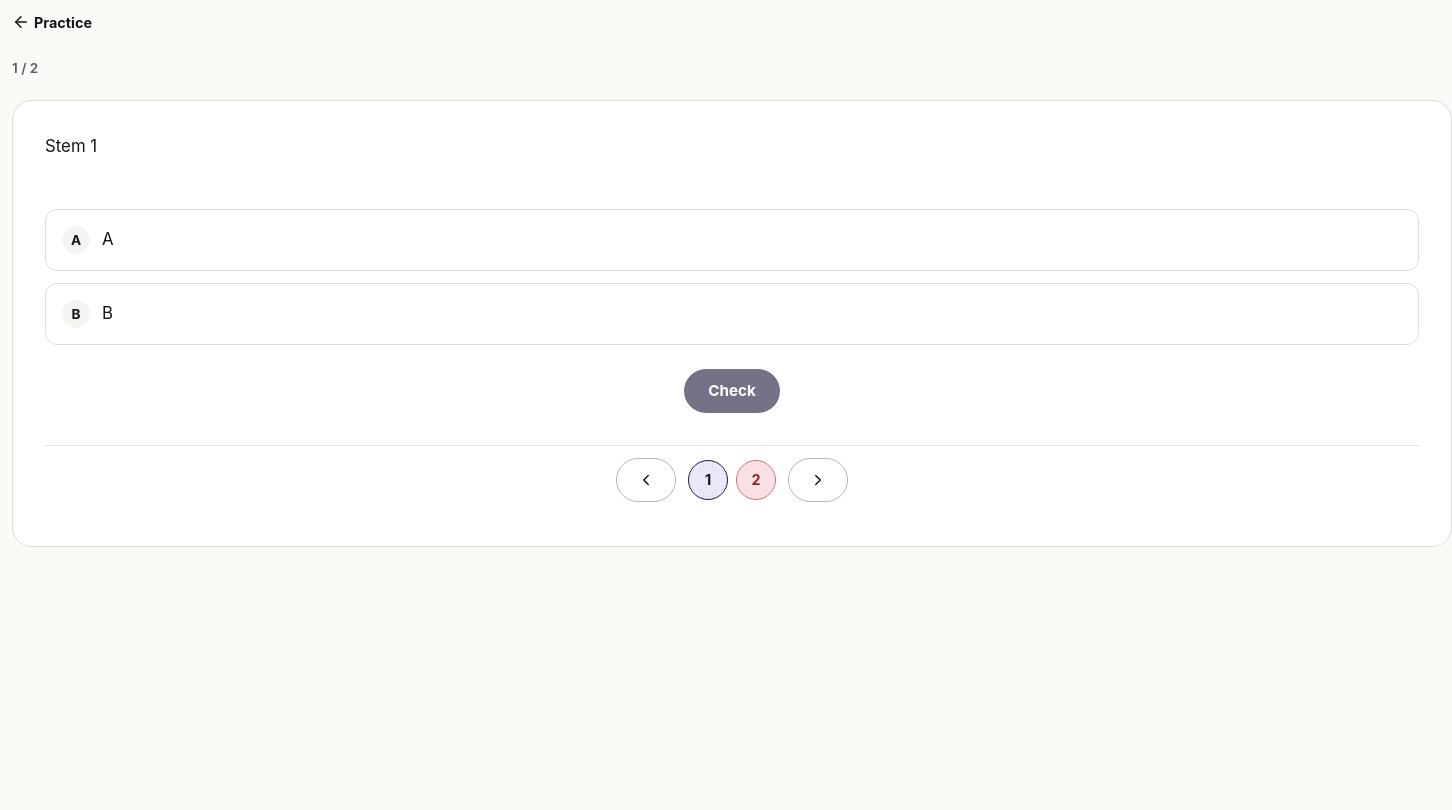
Test case: handleLock maps answer failure separately from finish submit failure
The width and height of the screenshot is (1452, 810).
Expected: the text "Stem 1" is shown, [45,136,97,156]
What coordinates should you click on to do the following:
click the radio button showing "A"
I would click on:
 (76, 240)
Its box is [45,209,1419,271].
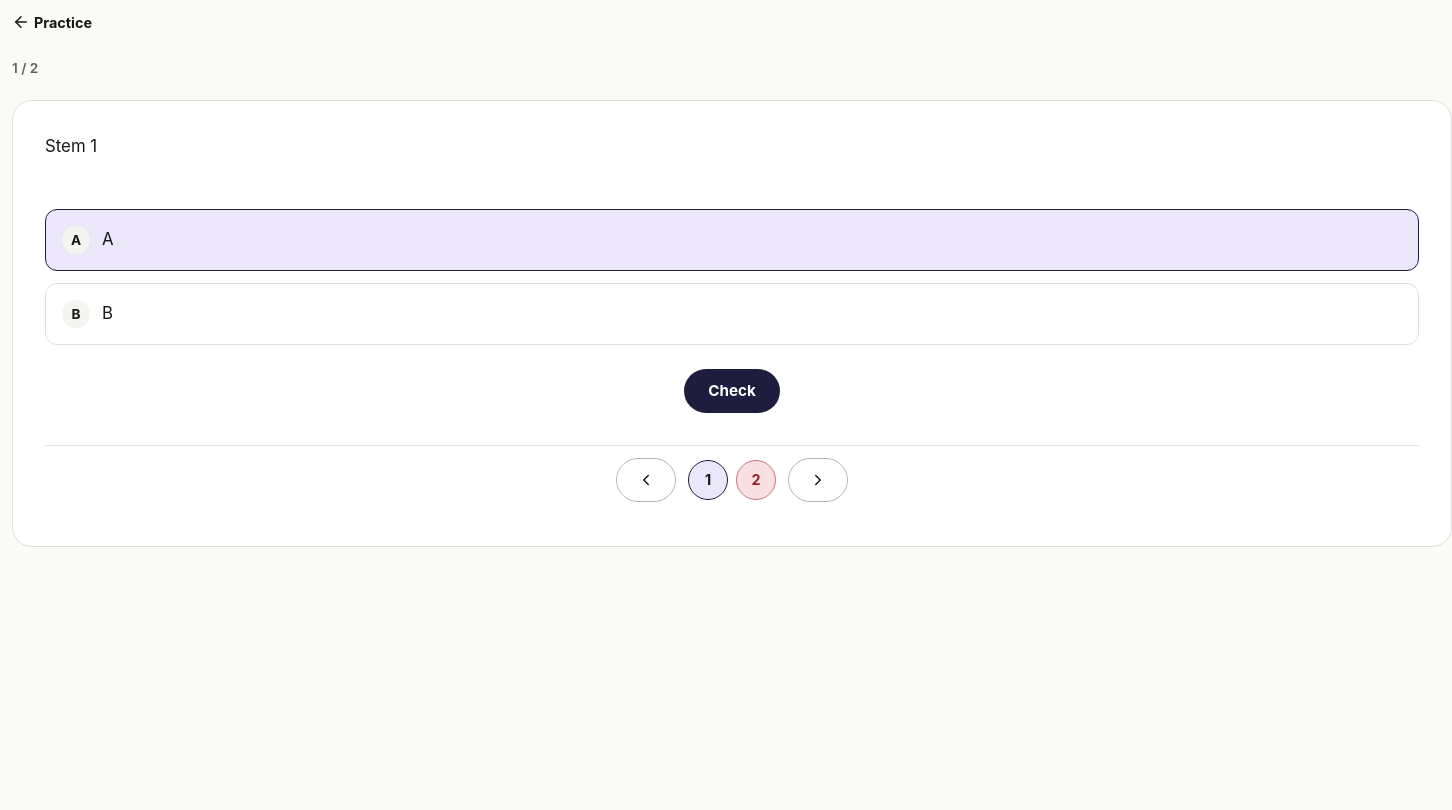
What coordinates should you click on to do the following:
click the button "Check"
I would click on:
 (732, 391)
Its box is [684,369,780,413].
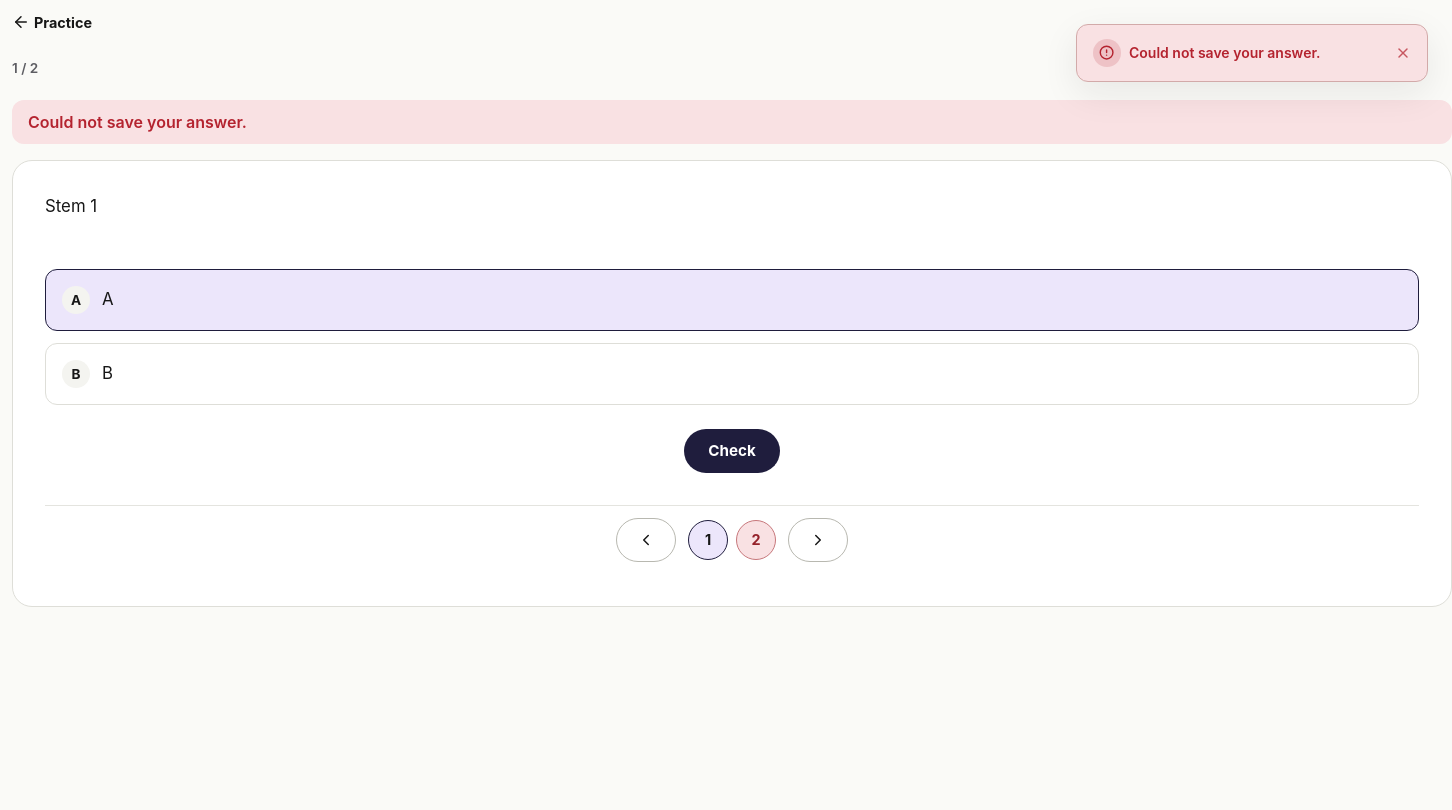
Expected: the message "Could not save your answer." below "1 / 2" is shown, [28,112,247,132]
